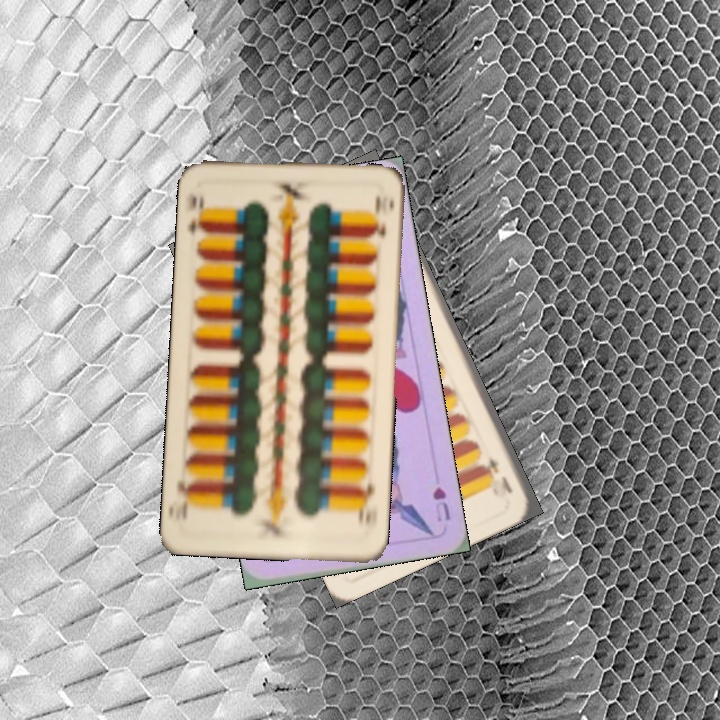E10: (483, 451, 515, 496), (184, 191, 210, 238), (354, 479, 376, 526)
HU: (428, 483, 453, 524)
